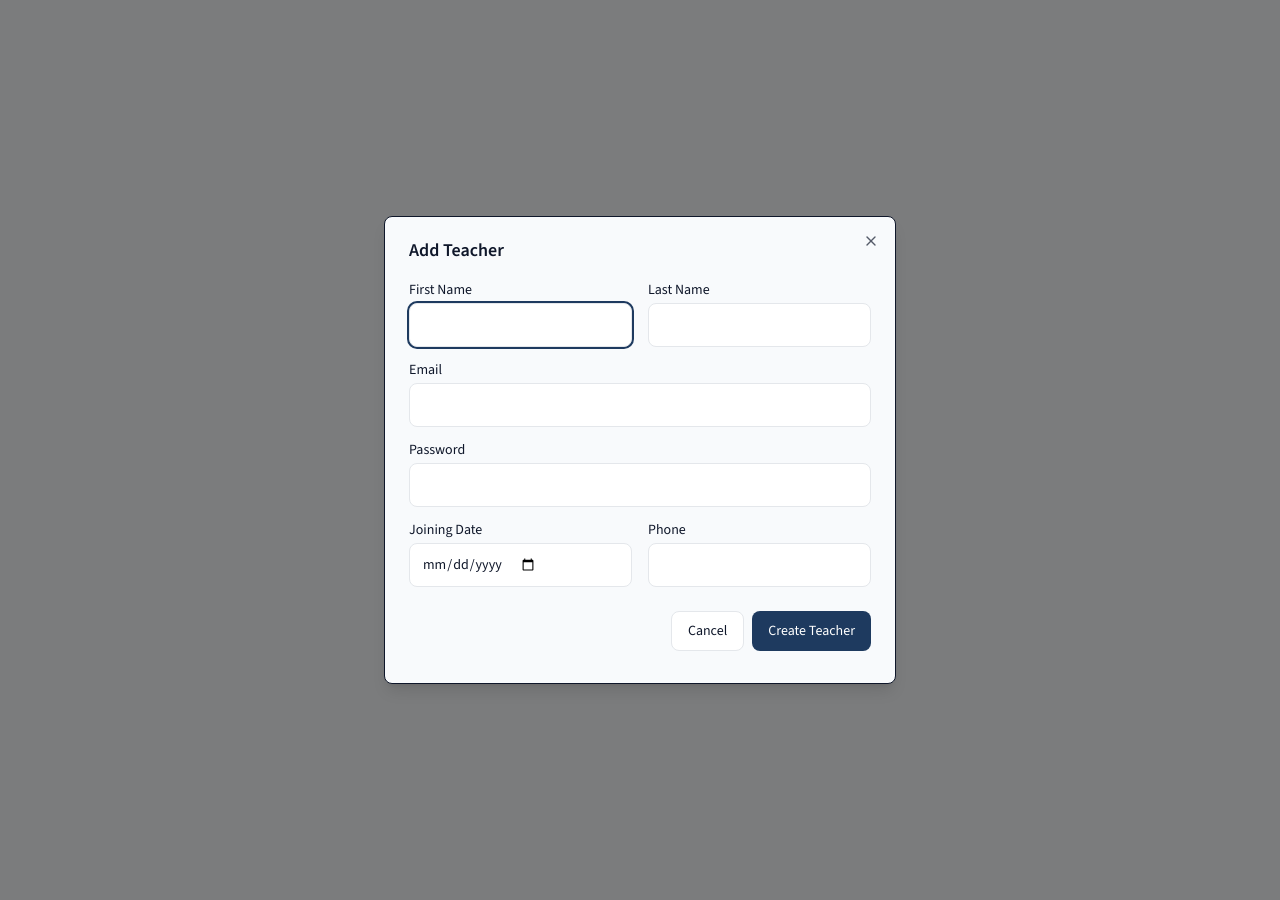
Test: CreateTeacherModal › 4: validation blocks invalid email
Step 1. Type "Nguyen" into the field labelled "First Name" → (520, 325), box [409,303,632,347]
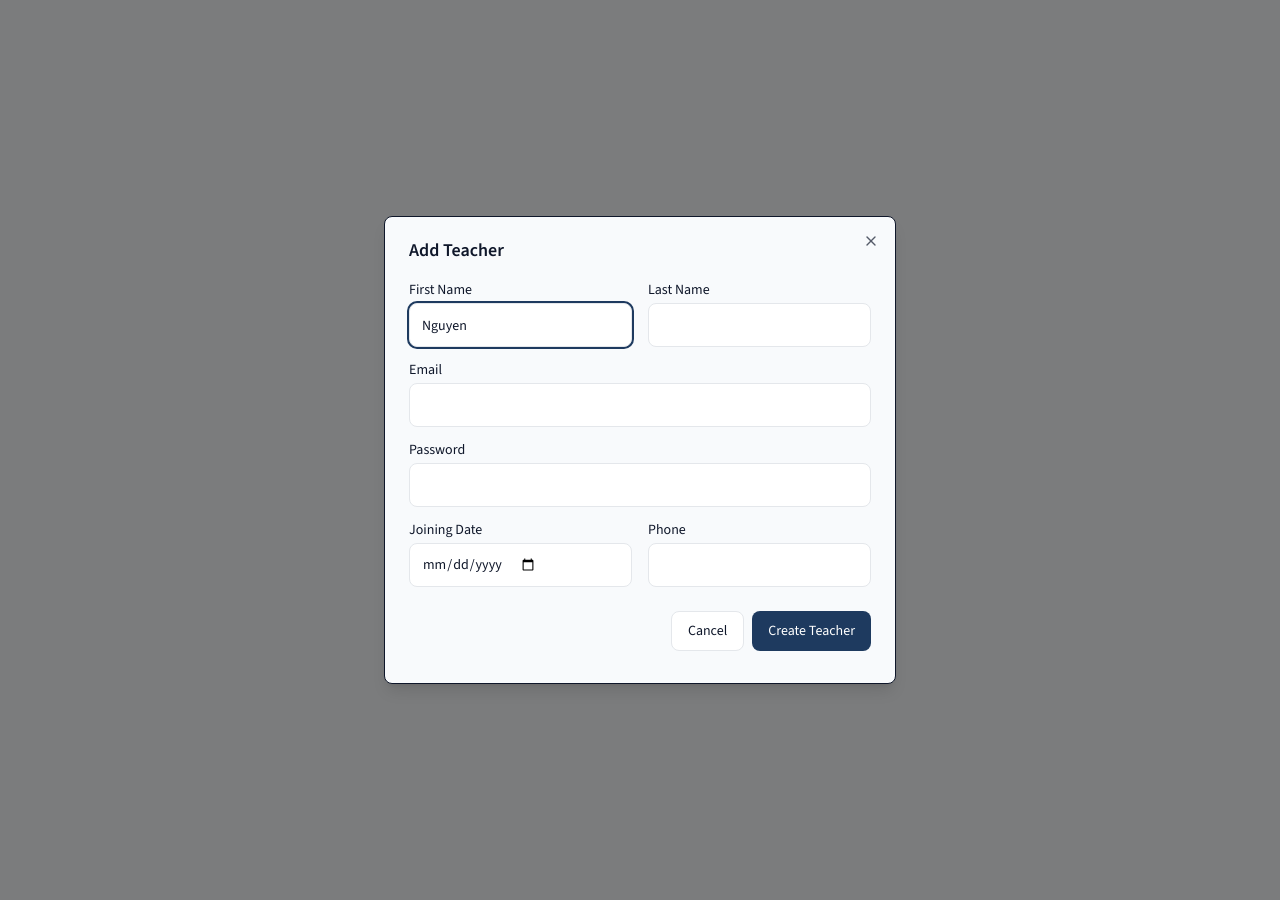
Step 2. Type "Van A" into the field labelled "Last Name" → (760, 325), box [648,303,871,347]
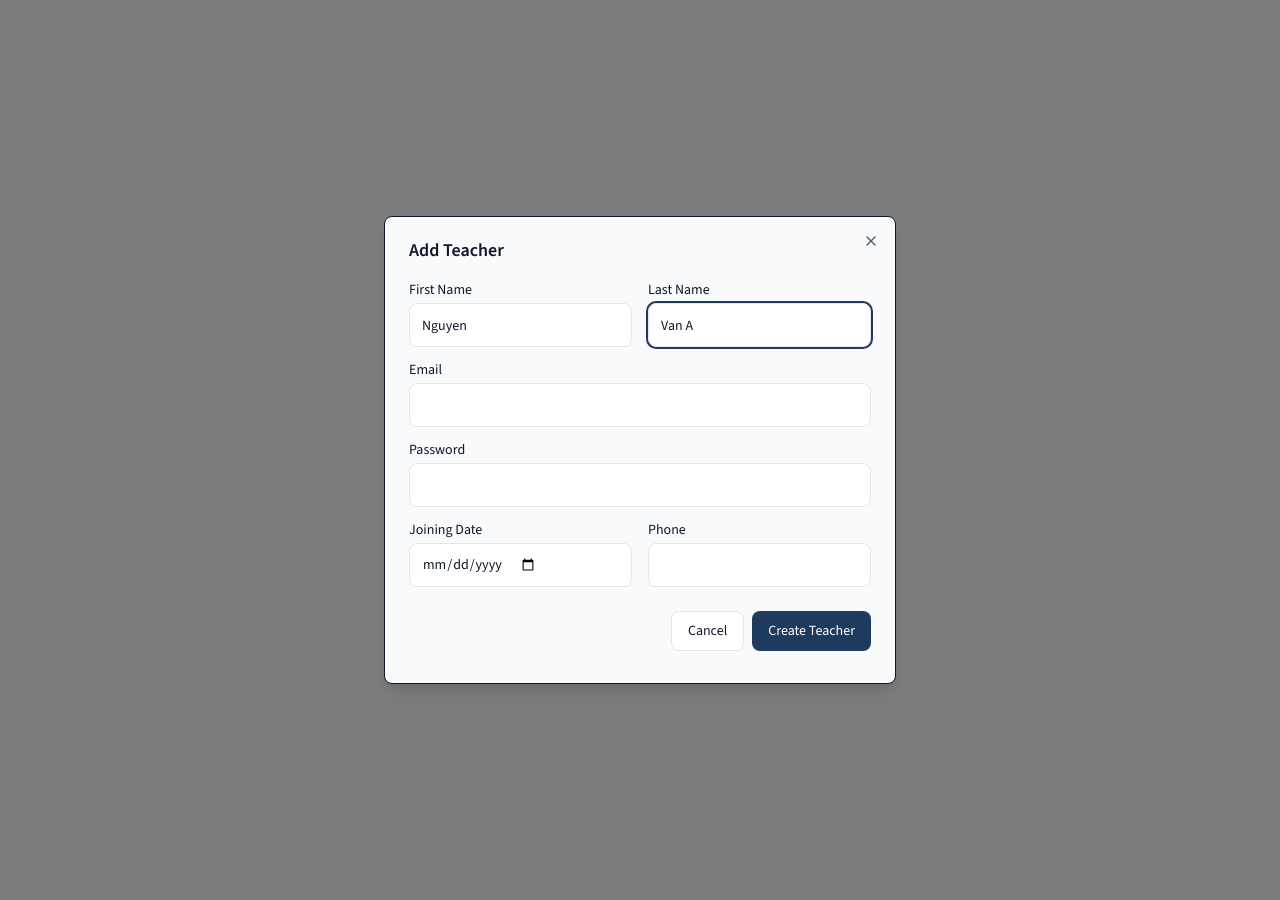
Step 3. Type "notanemail" into the field labelled "Email" → (640, 405), box [409,383,871,427]
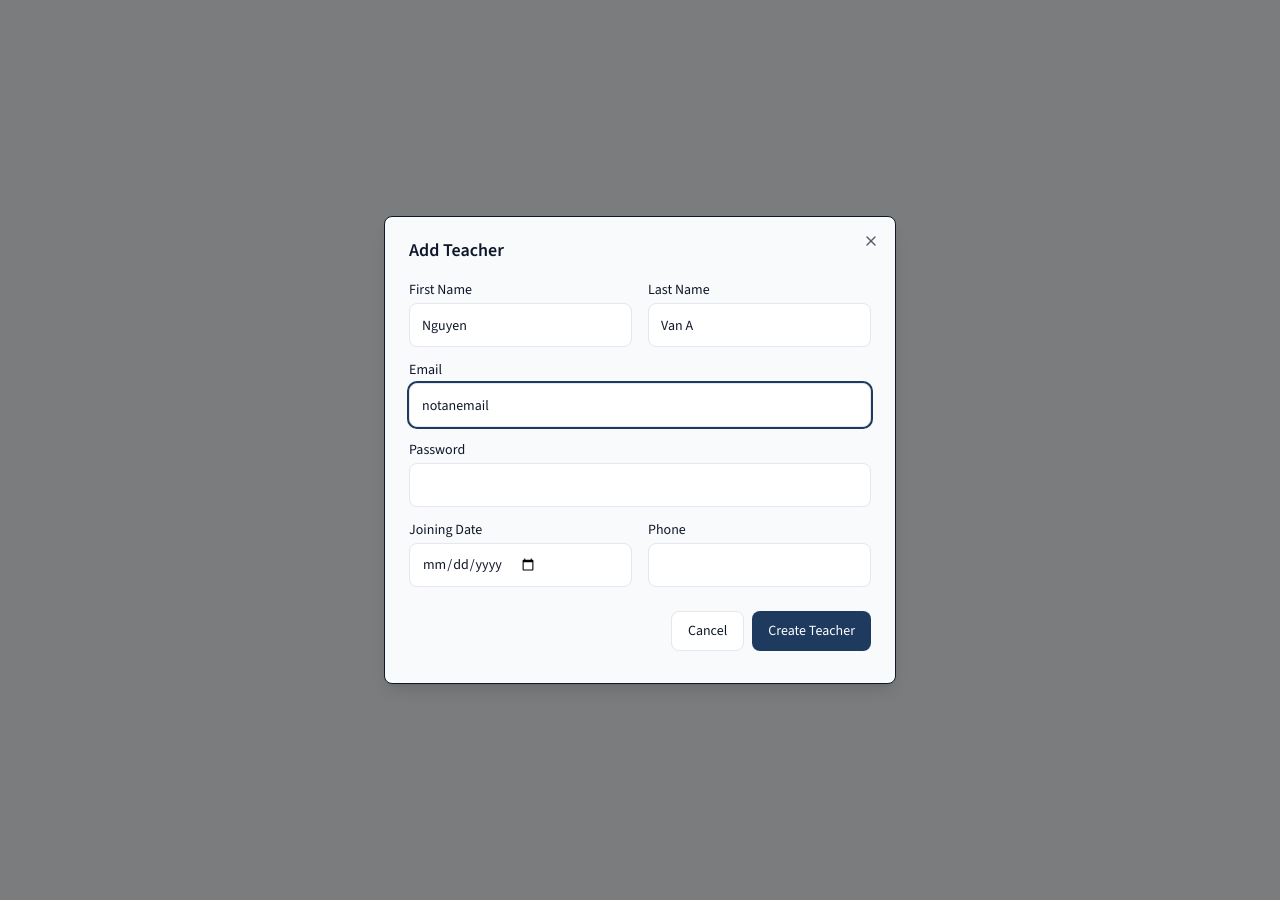
Step 4. Type "password123" into the password field labelled "Password" → (640, 485), box [409,463,871,507]
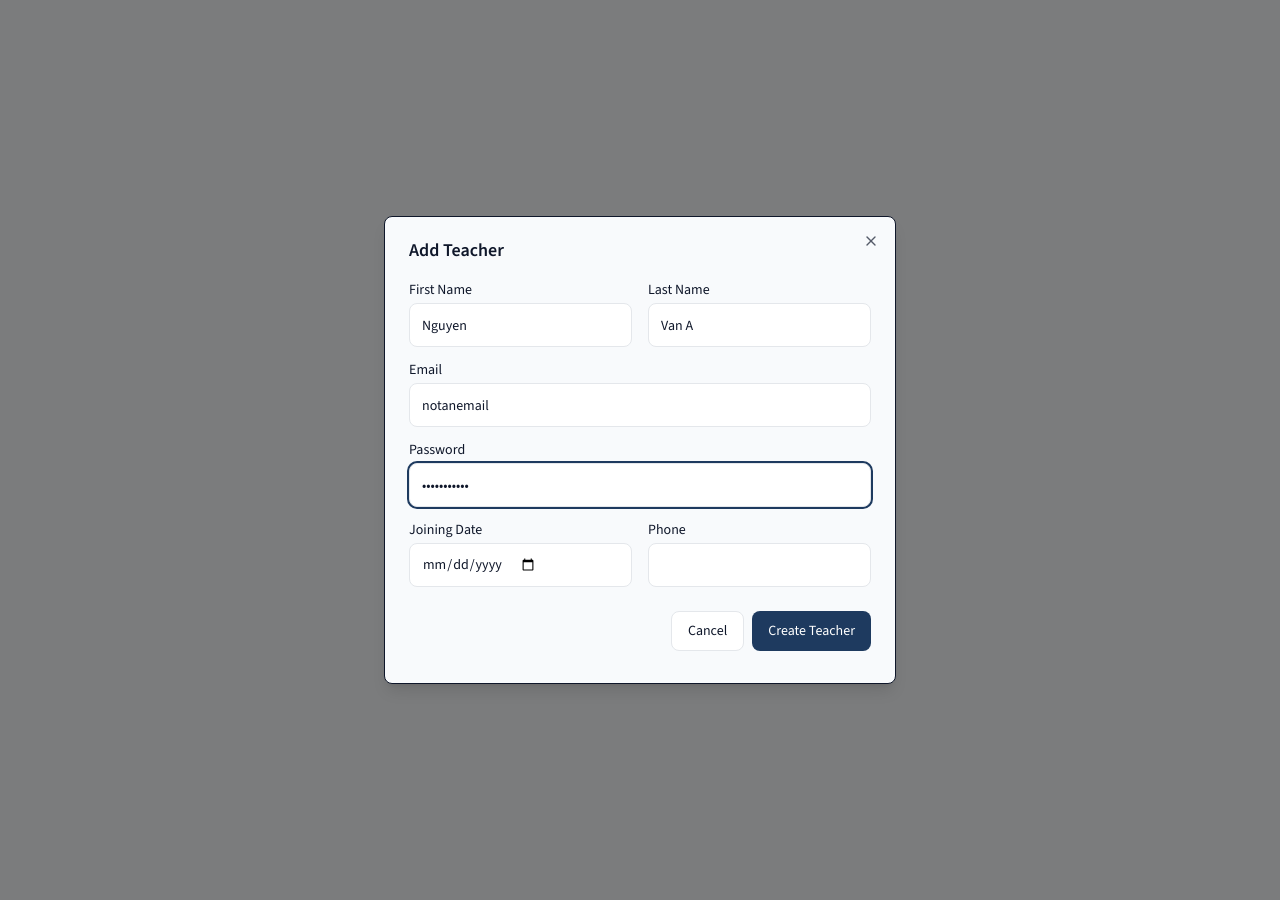
Step 5. Type "2025-09-01" into the date field labelled "Joining Date" → (520, 565), box [409,543,632,587]
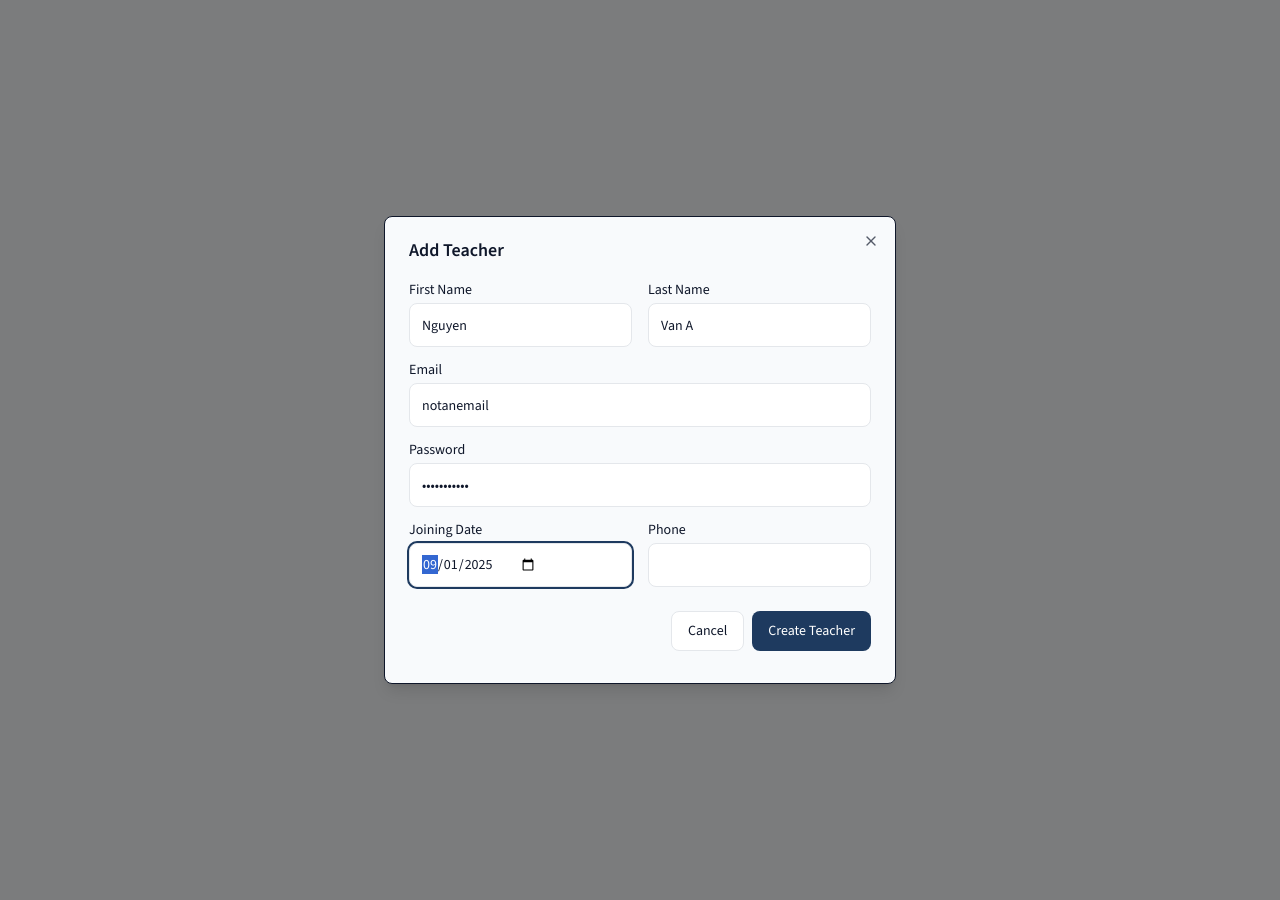
Step 6. Click the button "Create Teacher" → (812, 631), box [752,611,871,651]
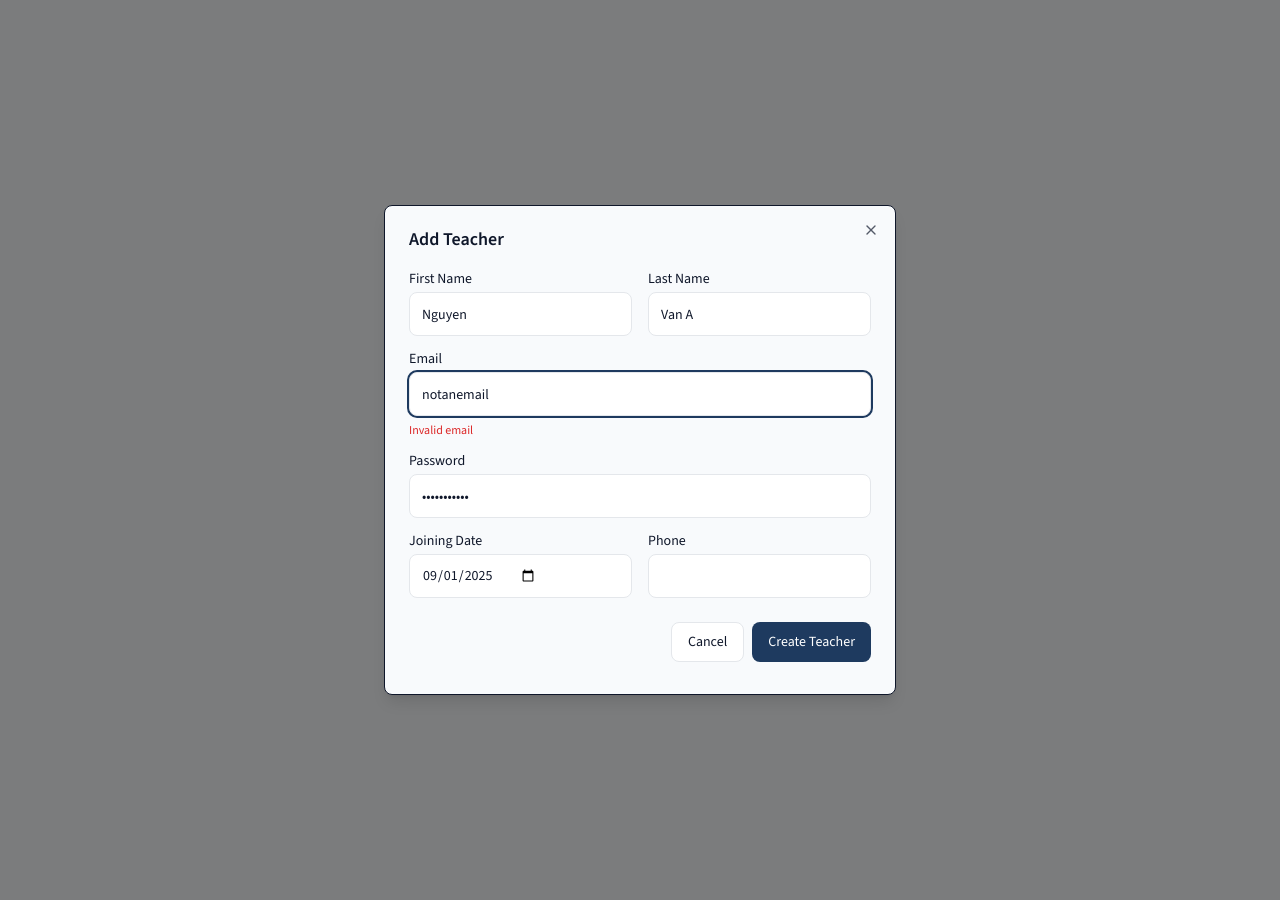
Check: the text "Invalid email" is shown, box [409,422,473,438]
